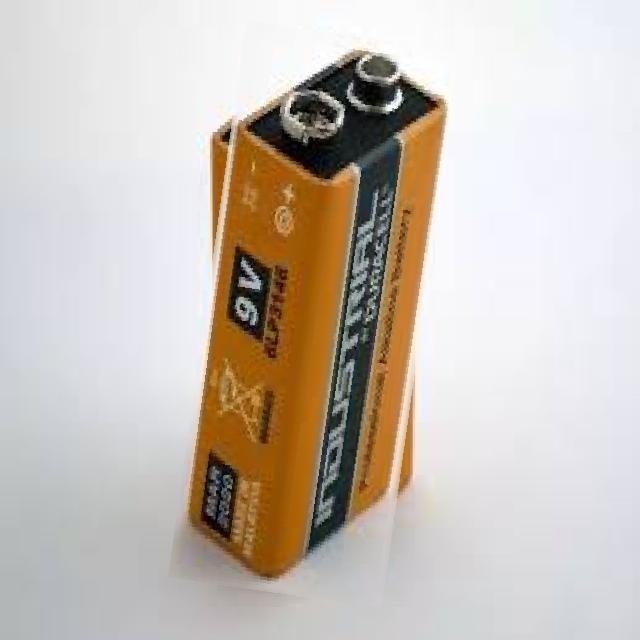Battery: (156, 17, 482, 584)
